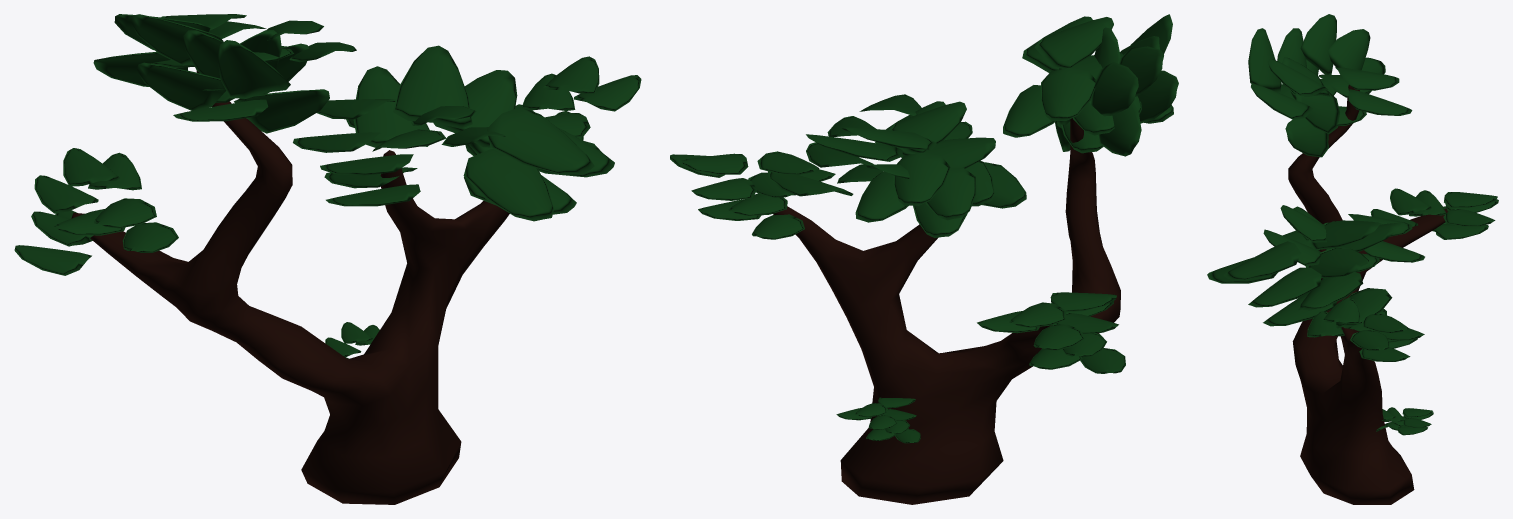
Rendered from tree.obj.
3 views of the same model, side by side, from view 1: azimuth 30°, elevation 25°; view 2: azimuth 150°, elevation 25°; view 3: azimuth 270°, elevation 25° (orthographic). The views are drawn at different scales.
Parts seen in each view (by area): view 1: tree; view 2: tree; view 3: tree.
Boxes of the visible parts, x1,y1,x2,y2 form: tree: (14,14,641,504); tree: (670,14,1178,504); tree: (1207,14,1498,504).
Size of the model in its own units: 9.19 by 8.46 by 5.83.
